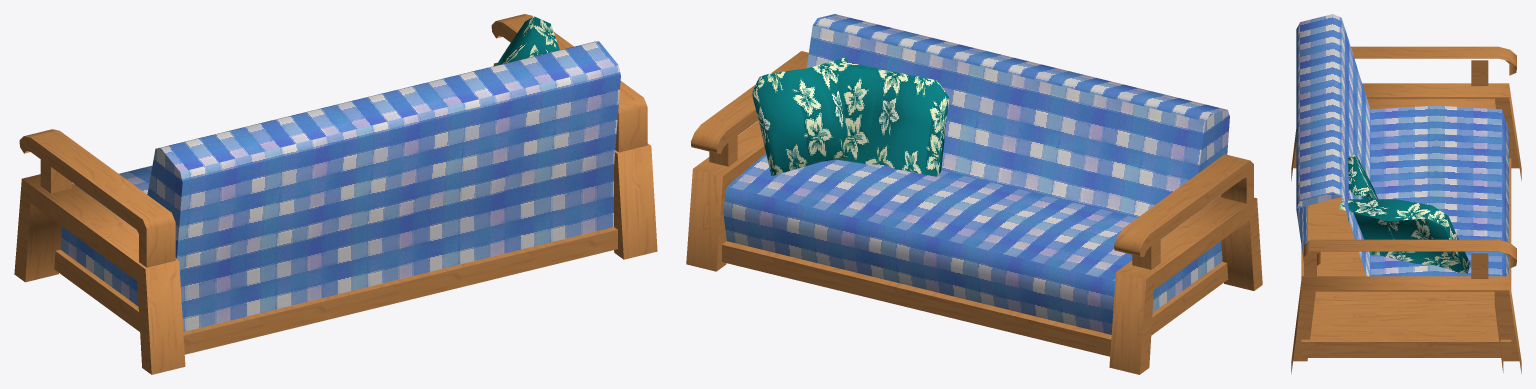
File: interior_A_007.fbx
The picture shows the model from 3 angles, left to right: view 1: azimuth 30°, elevation 25°; view 2: azimuth 150°, elevation 25°; view 3: azimuth 270°, elevation 25°; orthographic projection. The views are drawn at different scales.
Visible parts, largest first — view 1: interior_A_007; view 2: interior_A_007; view 3: interior_A_007.
Part boxes in pixels (left/top/right/bottom): interior_A_007: left=14, top=14, right=657, bottom=374; interior_A_007: left=686, top=14, right=1262, bottom=374; interior_A_007: left=1291, top=14, right=1521, bottom=373.
Size of the model in its own units: 219 by 83.09 by 103.
